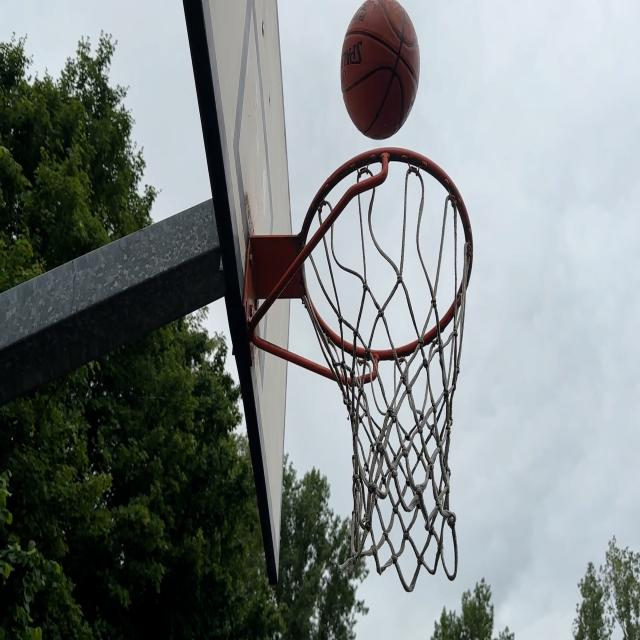Basketball: (342, 0, 421, 141)
